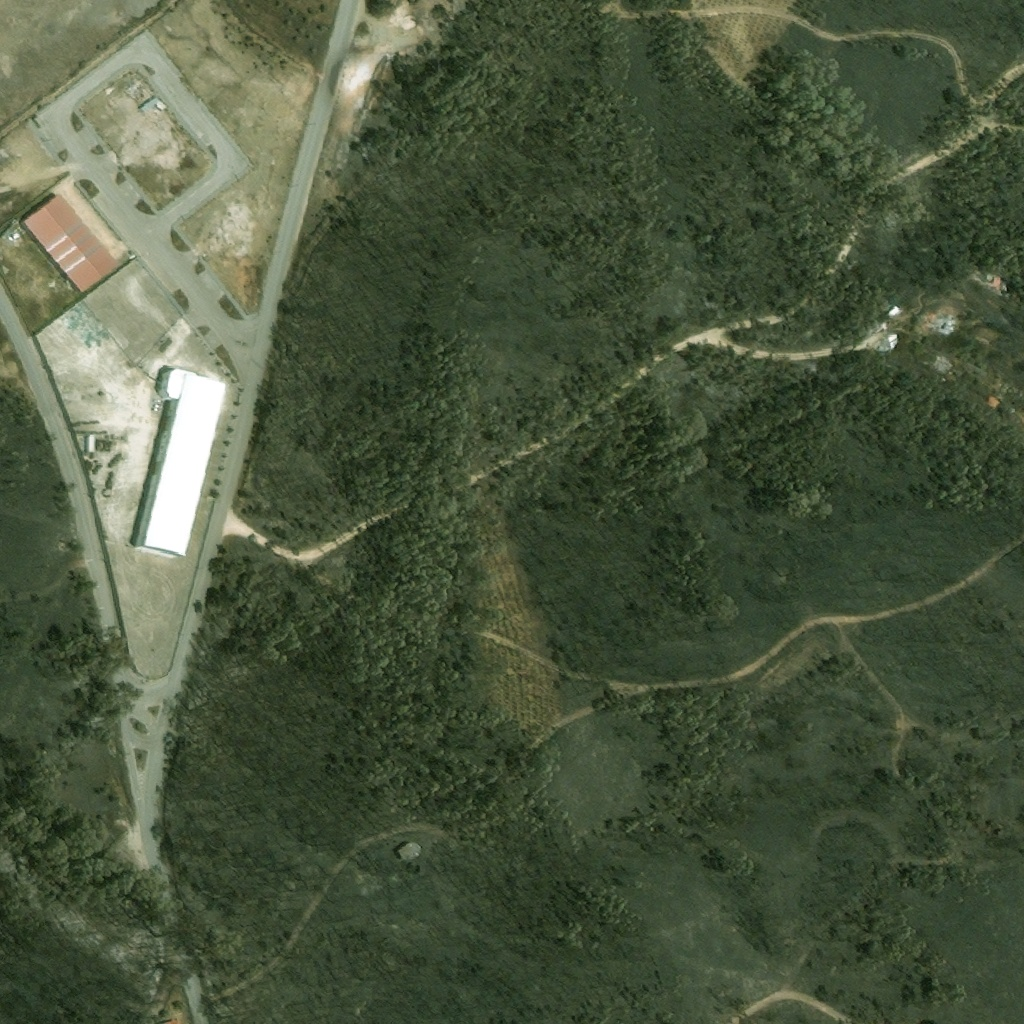0 no-damage: (134, 368, 227, 560), (19, 194, 119, 293), (395, 840, 424, 864)
1 minor-damage: (990, 272, 1012, 292), (995, 382, 1013, 400)
3 destroyed: (927, 308, 960, 331), (978, 326, 999, 341), (886, 332, 897, 344)
